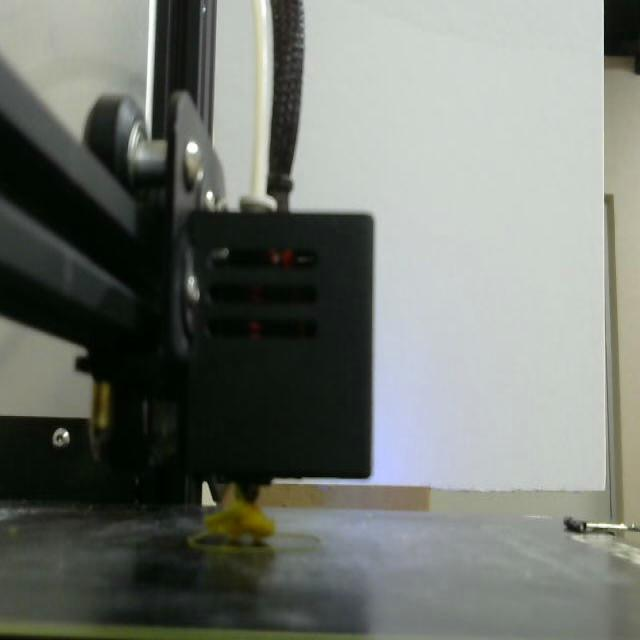spaghetti: (207, 494, 280, 567)
